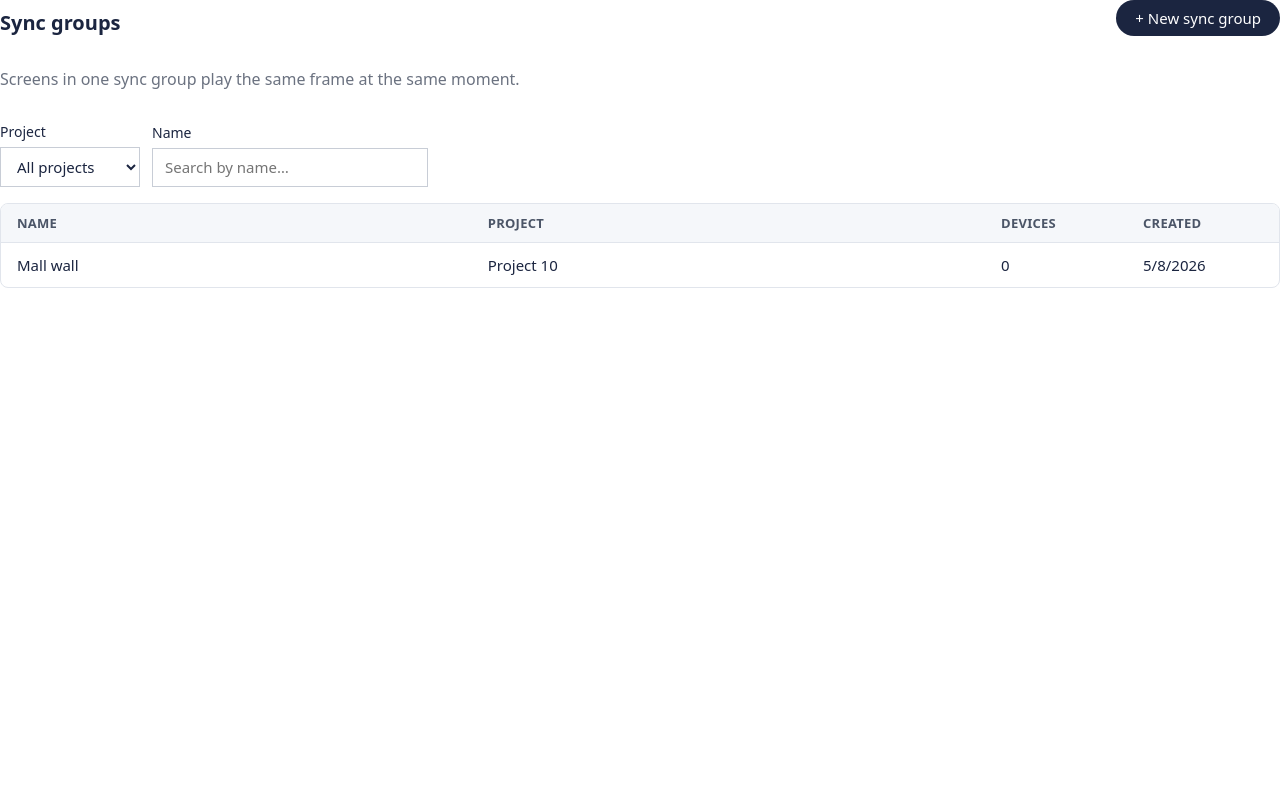
Test: SyncGroupsPage › renders a create 409 message inline on the name input
The width and height of the screenshot is (1280, 800).
Click the button "+ New sync group": (1198, 18) x1=1116 y1=0 x2=1279 y2=36
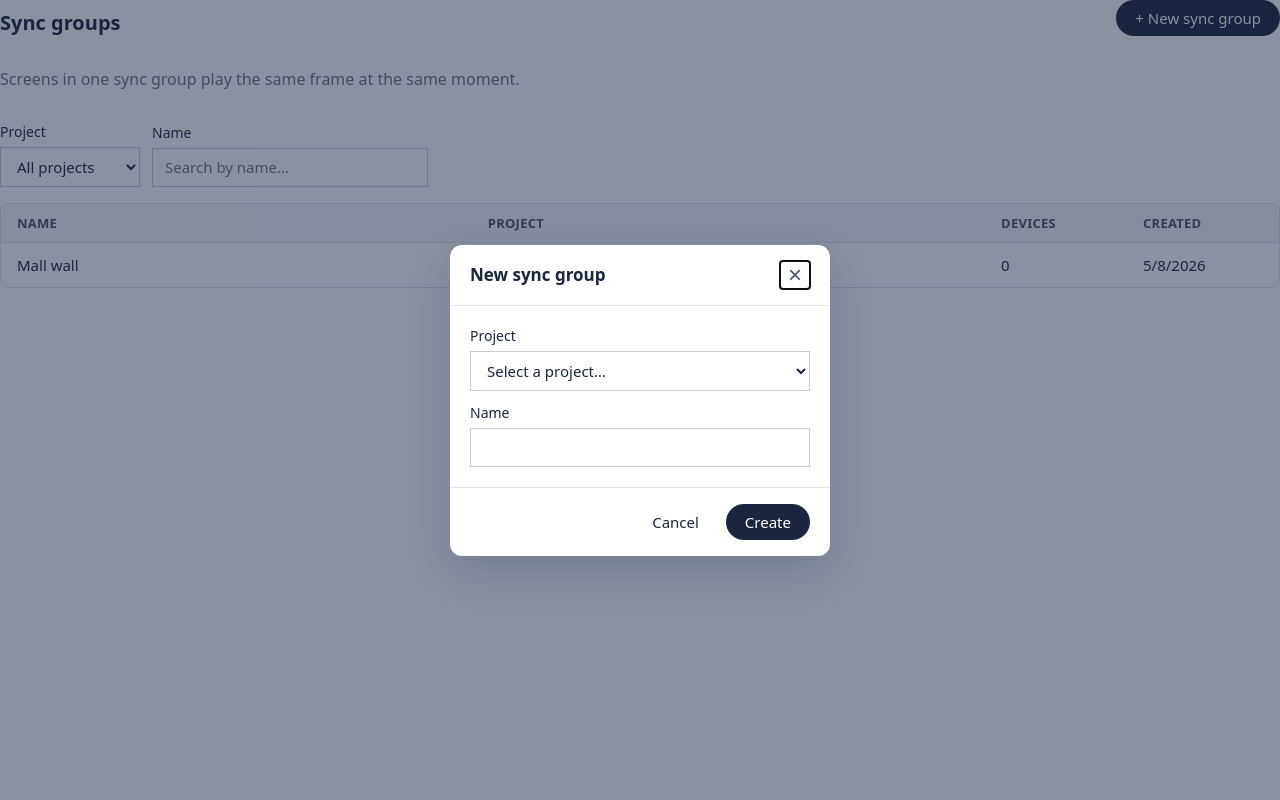
Select "Project 10" in the dropdown labelled "Project": (640, 370) x1=470 y1=350 x2=810 y2=390
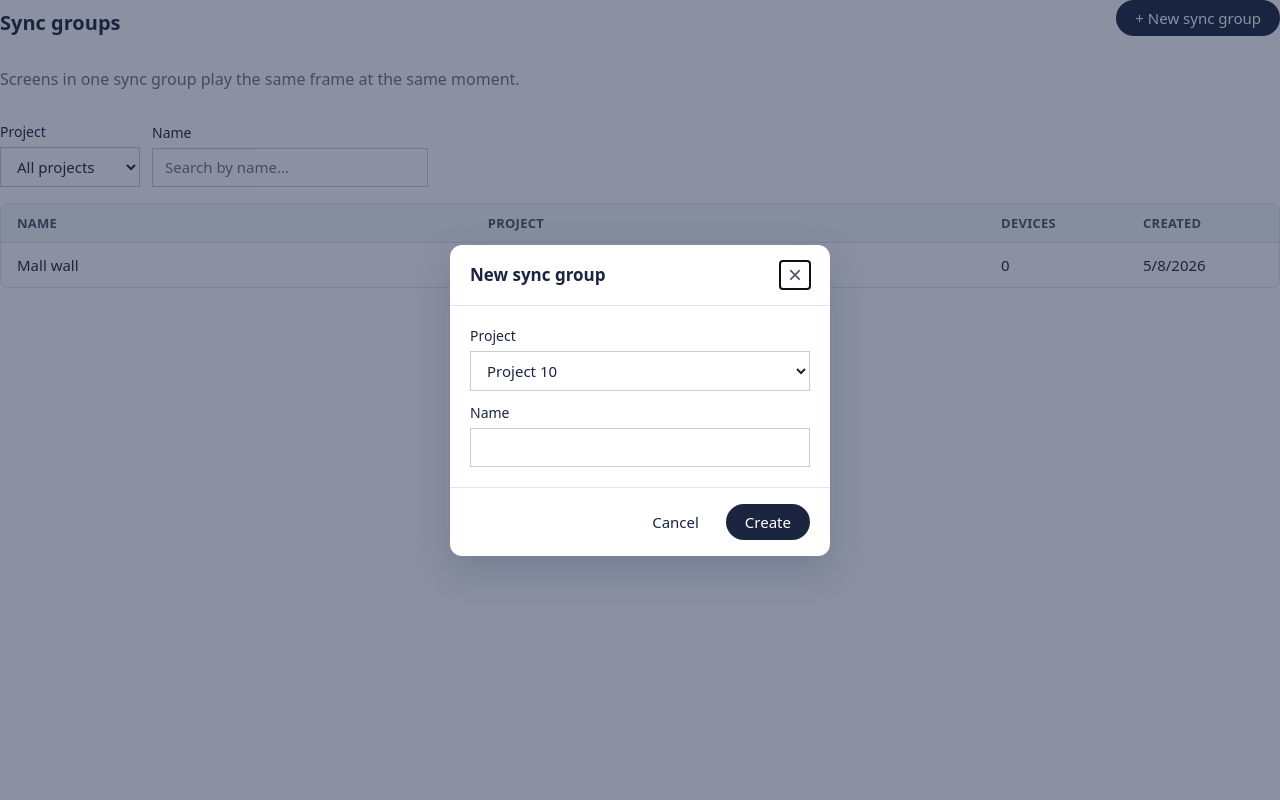
In the field labelled "Name": (640, 447) x1=470 y1=428 x2=810 y2=466, type "dup"
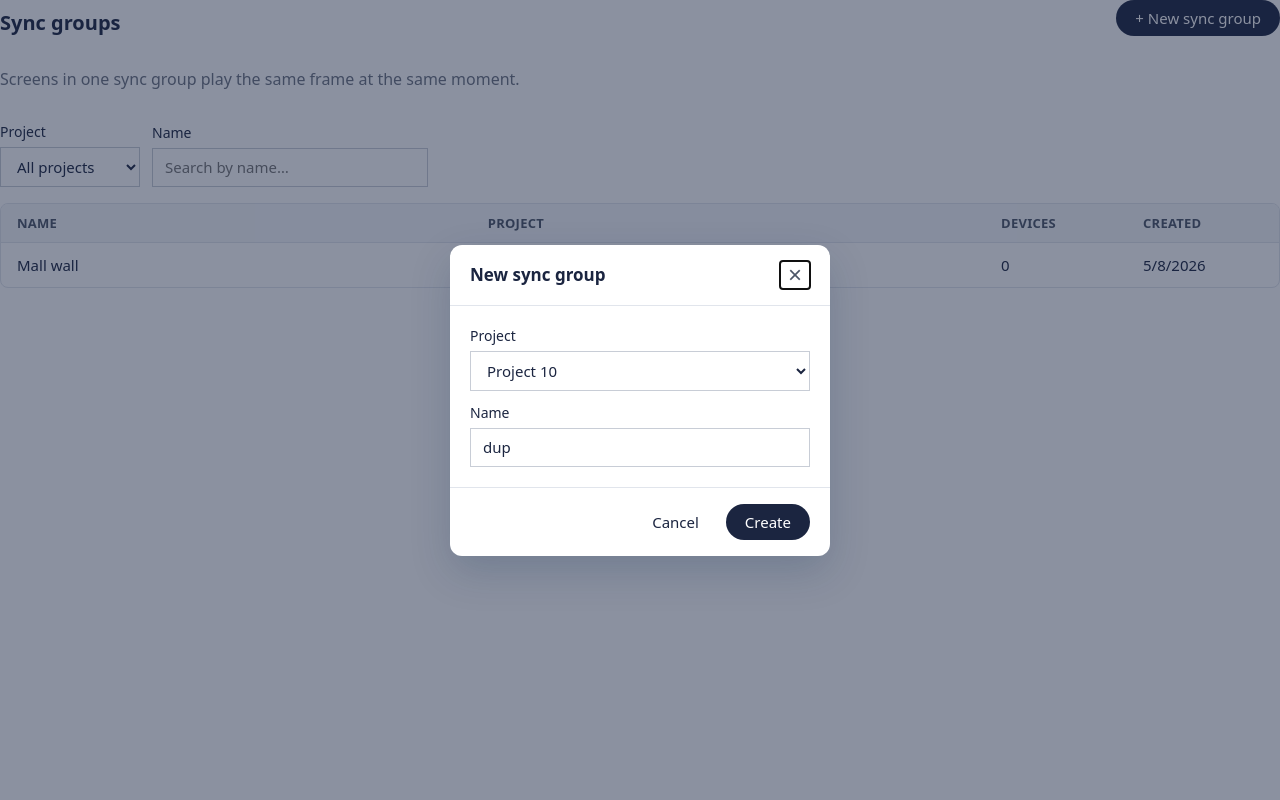
Click the button "Create": (768, 522) x1=726 y1=504 x2=810 y2=540
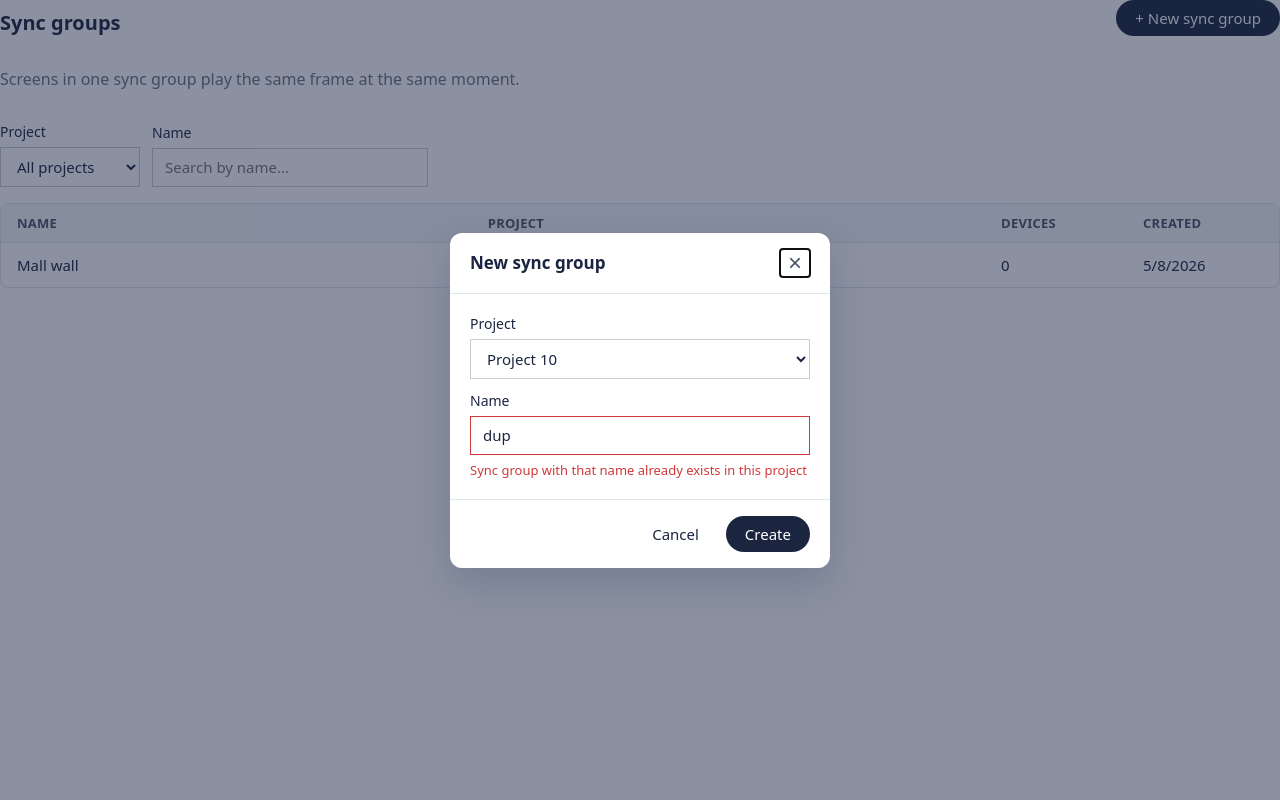
Expected: the text "Sync group with that name already exists in this project" is shown, x1=470 y1=460 x2=810 y2=478
